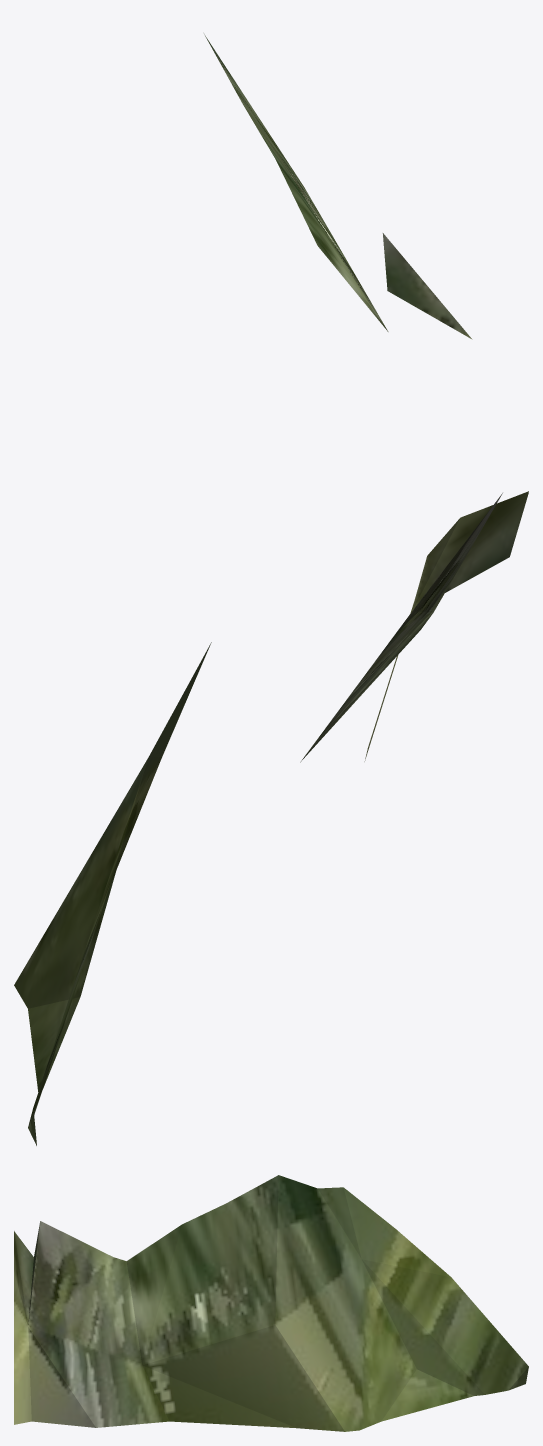
3 views of the same model, one above another, from view 1: azimuth 30°, elevation 25°; view 2: azimuth 150°, elevation 25°; view 3: azimuth 270°, elevation 25° (orthographic). The views are drawn at different scales.
Size of the model in its own units: 0.4417 by 0.8983 by 2.01.
Materials: 1 (1 with a texture image).
